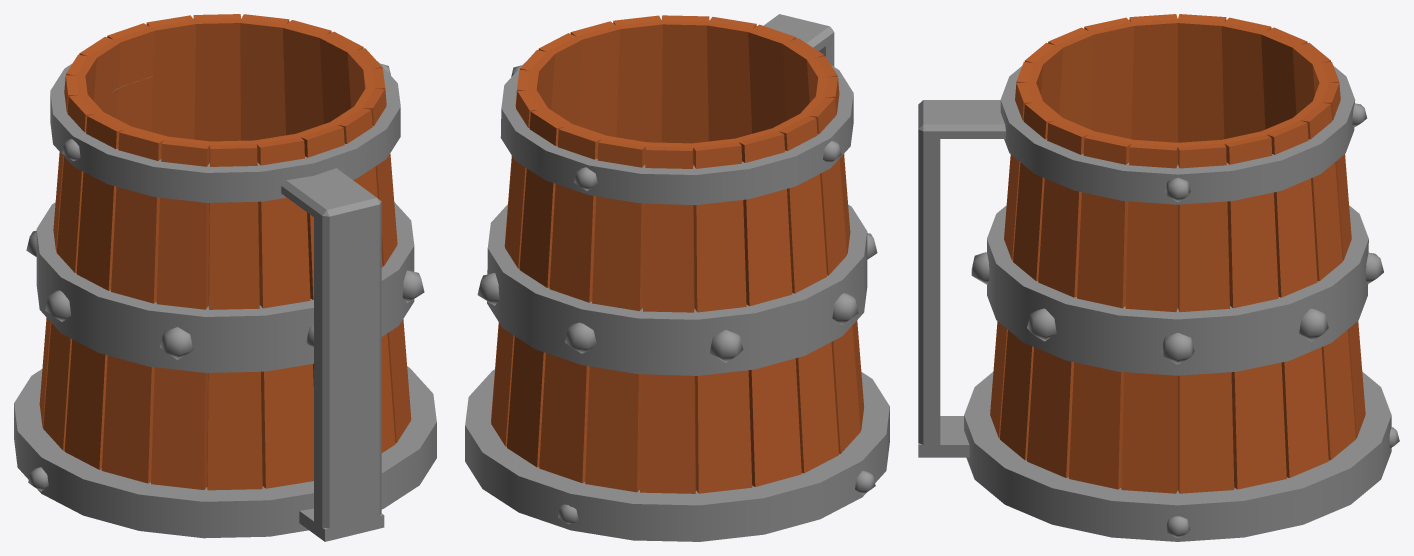
Rendered from Choppe.FBX.
The picture shows the model from 3 angles, left to right: view 1: azimuth 30°, elevation 25°; view 2: azimuth 150°, elevation 25°; view 3: azimuth 270°, elevation 25°; orthographic projection.
Visible parts, largest first — view 1: Choppe006; view 2: Choppe006; view 3: Choppe006.
Boxes of the visible parts, x1,y1,x2,y2 form: Choppe006: (14,14,436,541); Choppe006: (465,14,889,541); Choppe006: (918,14,1399,541).
Size of the model in its own units: 2.07 by 1.87 by 2.21.
